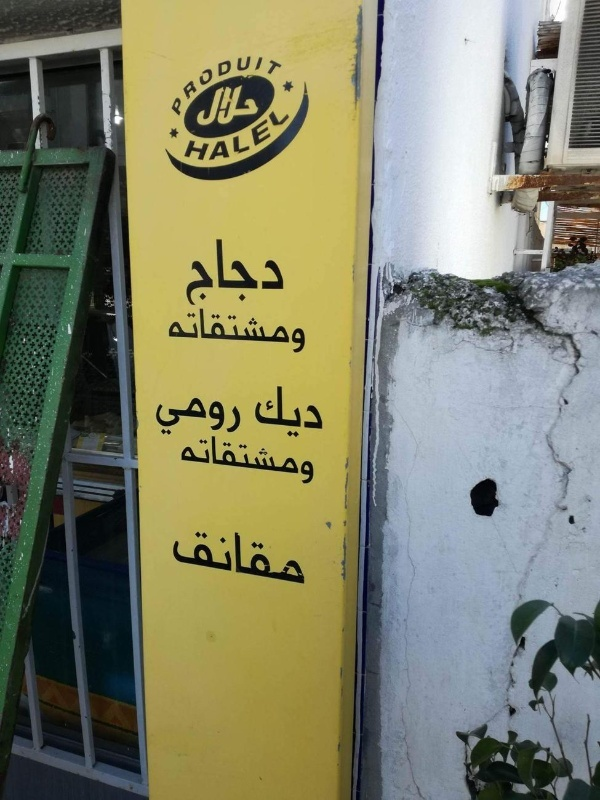text: (193, 39, 208, 127), (209, 39, 224, 127), (225, 39, 240, 127), (241, 39, 256, 127), (257, 39, 272, 127), (273, 39, 287, 127), (193, 237, 208, 307), (209, 237, 224, 307), (225, 237, 240, 307), (241, 237, 256, 307), (257, 237, 272, 307), (177, 524, 192, 586), (193, 524, 208, 586), (209, 524, 224, 586), (225, 524, 240, 586), (241, 524, 256, 586), (257, 524, 272, 586), (273, 524, 288, 586), (289, 524, 304, 586), (193, 107, 208, 164), (209, 107, 224, 164), (225, 107, 240, 164), (241, 107, 256, 164), (257, 107, 272, 164), (273, 107, 288, 164), (273, 237, 285, 307), (257, 386, 272, 441), (273, 386, 288, 441), (289, 386, 304, 441), (305, 386, 320, 441), (209, 84, 224, 132), (225, 84, 240, 132), (241, 84, 256, 132), (184, 39, 192, 127), (193, 434, 208, 477), (209, 434, 224, 477), (225, 434, 240, 477), (241, 434, 256, 477), (257, 434, 272, 477), (273, 434, 288, 477), (225, 396, 241, 436), (178, 434, 192, 477), (177, 307, 192, 347), (193, 307, 208, 347), (209, 307, 224, 347), (225, 307, 240, 347), (241, 307, 256, 347), (257, 307, 272, 347), (273, 307, 288, 347), (161, 396, 176, 436), (177, 396, 192, 436), (193, 396, 208, 436), (209, 396, 224, 436), (289, 434, 300, 477), (289, 107, 296, 164), (305, 524, 311, 586), (291, 327, 304, 355), (187, 237, 192, 307), (257, 84, 264, 132), (168, 307, 176, 347), (305, 460, 316, 485), (189, 107, 192, 164), (253, 386, 256, 441), (321, 386, 324, 441), (156, 396, 160, 436), (289, 307, 292, 347), (206, 84, 208, 132), (301, 460, 304, 485), (305, 327, 306, 355)
